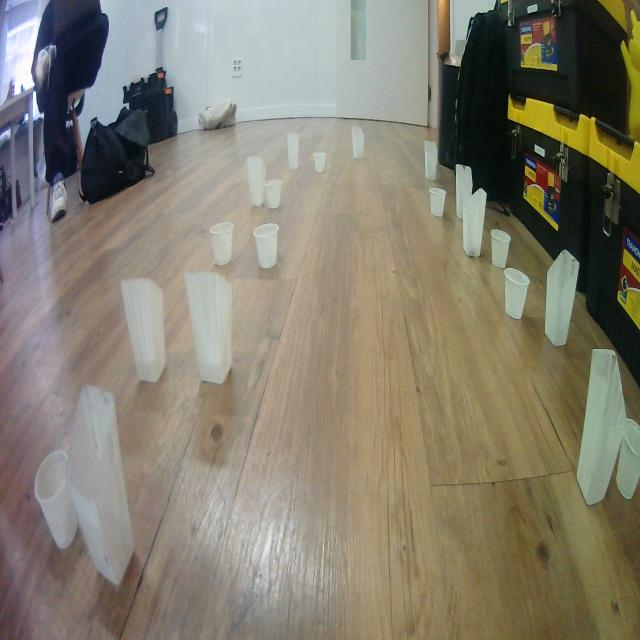erva_daninha: (66, 384, 134, 588), (576, 348, 627, 507), (184, 270, 234, 385), (120, 277, 166, 384), (544, 248, 580, 348), (462, 187, 488, 259), (246, 155, 267, 207), (455, 163, 473, 220), (424, 140, 438, 181), (287, 132, 300, 171), (351, 126, 365, 160)
planta: (34, 448, 78, 550), (615, 417, 640, 500), (503, 267, 531, 320), (253, 222, 279, 270), (210, 222, 234, 266), (489, 229, 512, 269), (428, 186, 447, 218), (264, 179, 282, 209), (314, 150, 326, 173)
